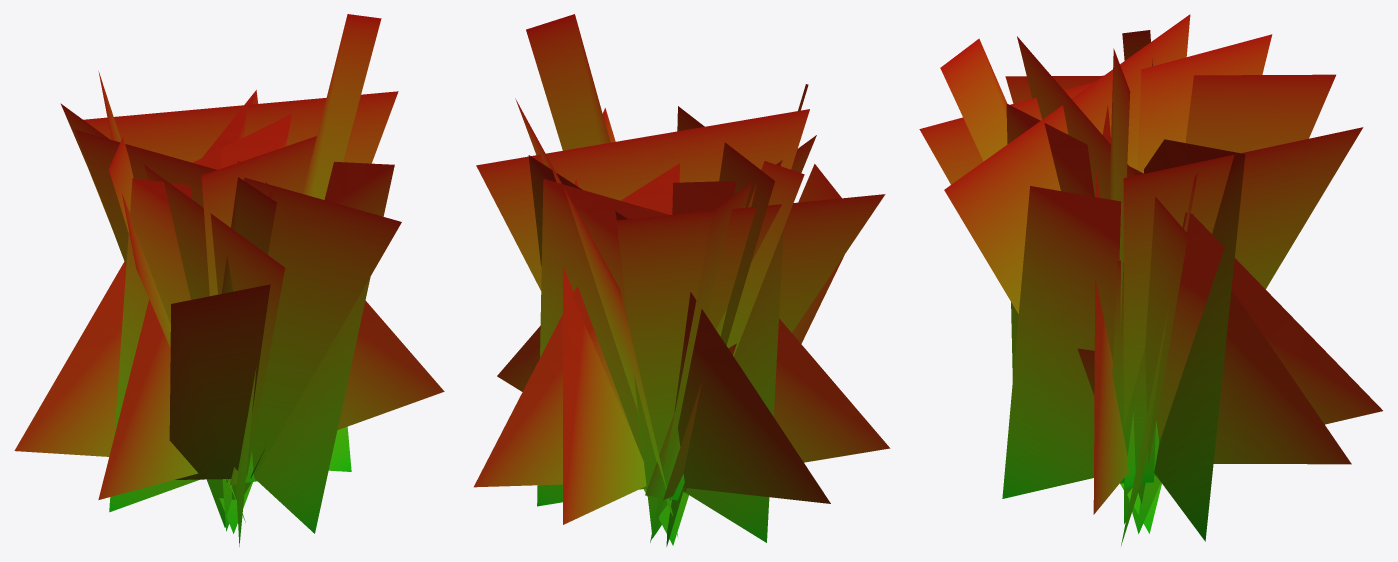
The model's file is Leafy Nineawn_LOD2_Var5_tlijciuia.fbx.
3 renders of one model, left to right at view 1: azimuth 30°, elevation 25°; view 2: azimuth 150°, elevation 25°; view 3: azimuth 270°, elevation 25°, orthographic. The views are drawn at different scales.
Parts seen in each view (by area): view 1: _4c08_Var5_LOD2; view 2: _4c08_Var5_LOD2; view 3: _4c08_Var5_LOD2.
Part boxes in pixels (box(x1,y1,x2,y2)): _4c08_Var5_LOD2: box(14, 14, 444, 546); _4c08_Var5_LOD2: box(474, 14, 890, 546); _4c08_Var5_LOD2: box(919, 14, 1382, 545).
Size of the model in its own units: 7.04 by 8.77 by 6.88.
